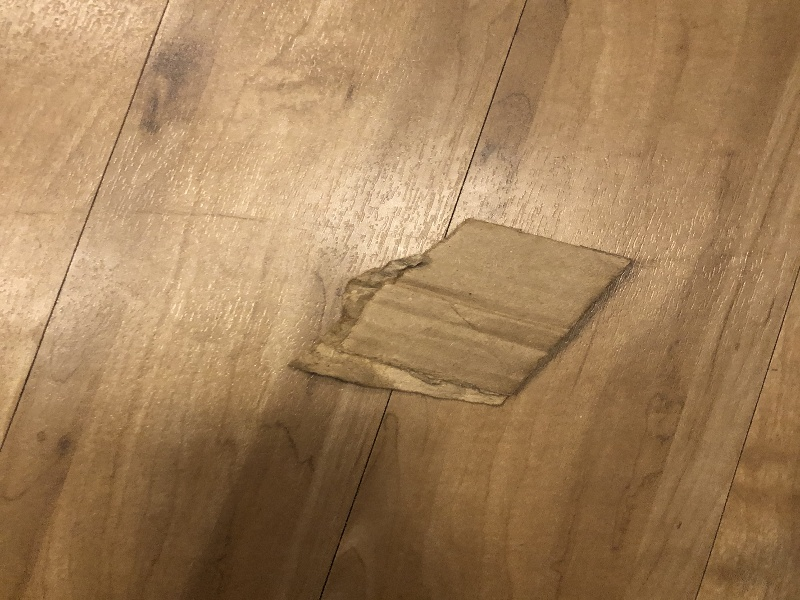cardboard: (284, 212, 638, 413)
